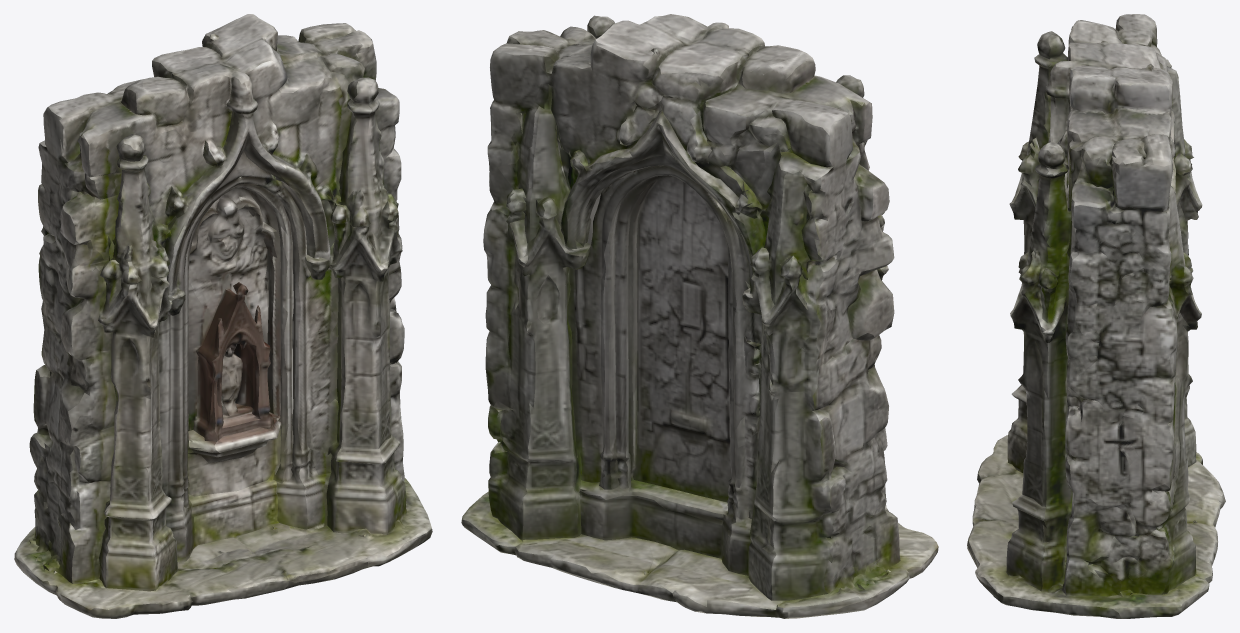
The model's file is shrine_ruin.glb.
3 renders of one model, left to right at view 1: azimuth 30°, elevation 25°; view 2: azimuth 150°, elevation 25°; view 3: azimuth 270°, elevation 25°, orthographic. The views are drawn at different scales.
Parts seen in each view (by area): view 1: geometry_0; view 2: geometry_0; view 3: geometry_0.
Boxes of the visible parts, x1,y1,x2,y2 form: geometry_0: [14, 14, 432, 618]; geometry_0: [461, 14, 938, 618]; geometry_0: [967, 14, 1225, 618].
Bounding box in the file's own units: 0.3626 × 0.45 × 0.2194.
Materials: 1 (1 with a texture image).
